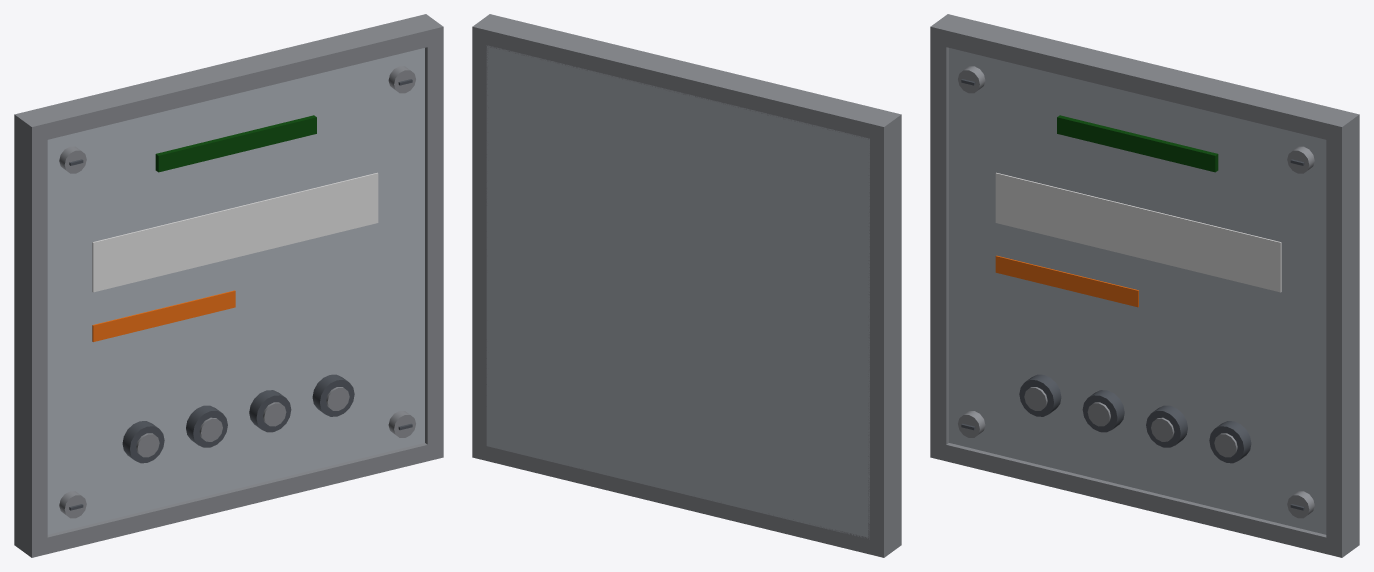
Rendered from repair_panel_fixed.obj.
3 views of the same model, side by side, from view 1: azimuth 30°, elevation 25°; view 2: azimuth 150°, elevation 25°; view 3: azimuth 330°, elevation 25° (orthographic).
Visible parts, largest first — view 1: repair_panel_fixed; view 2: repair_panel_fixed; view 3: repair_panel_fixed.
Part boxes in pixels (x1=…): repair_panel_fixed: x1=14, y1=14, x2=443, y2=557; repair_panel_fixed: x1=472, y1=14, x2=901, y2=557; repair_panel_fixed: x1=930, y1=14, x2=1359, y2=557.
Bounding box in the file's own units: 1.3 × 1.3 × 0.1275.
